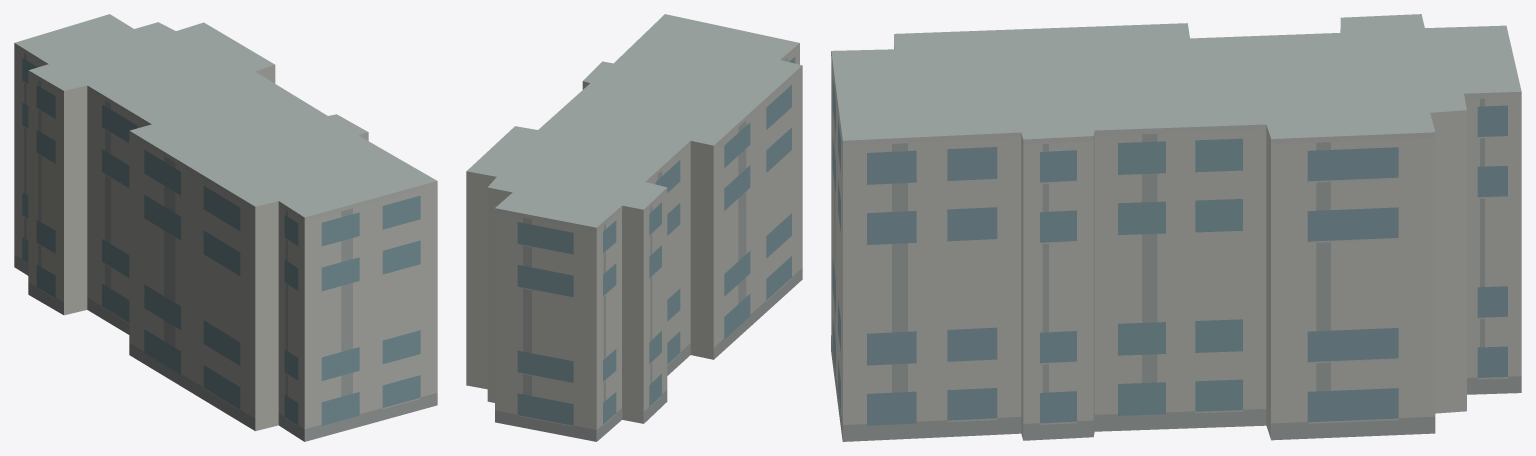
The model's file is survey-upis-32757682.glb.
The picture shows the model from 3 angles, left to right: view 1: azimuth 30°, elevation 25°; view 2: azimuth 150°, elevation 25°; view 3: azimuth 270°, elevation 25°; orthographic projection. The views are drawn at different scales.
Visible parts, largest first — view 1: survey-upis-32757682.tmp; view 2: survey-upis-32757682.tmp; view 3: survey-upis-32757682.tmp.
Boxes of the visible parts, x1=… form: survey-upis-32757682.tmp: x1=14, y1=14, x2=437, y2=441; survey-upis-32757682.tmp: x1=466, y1=14, x2=802, y2=441; survey-upis-32757682.tmp: x1=831, y1=14, x2=1521, y2=441.
Size of the model in its own units: 11.92 by 13.2 by 27.43.
